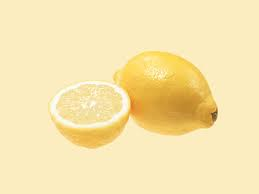lemon: (100, 45, 234, 139)
